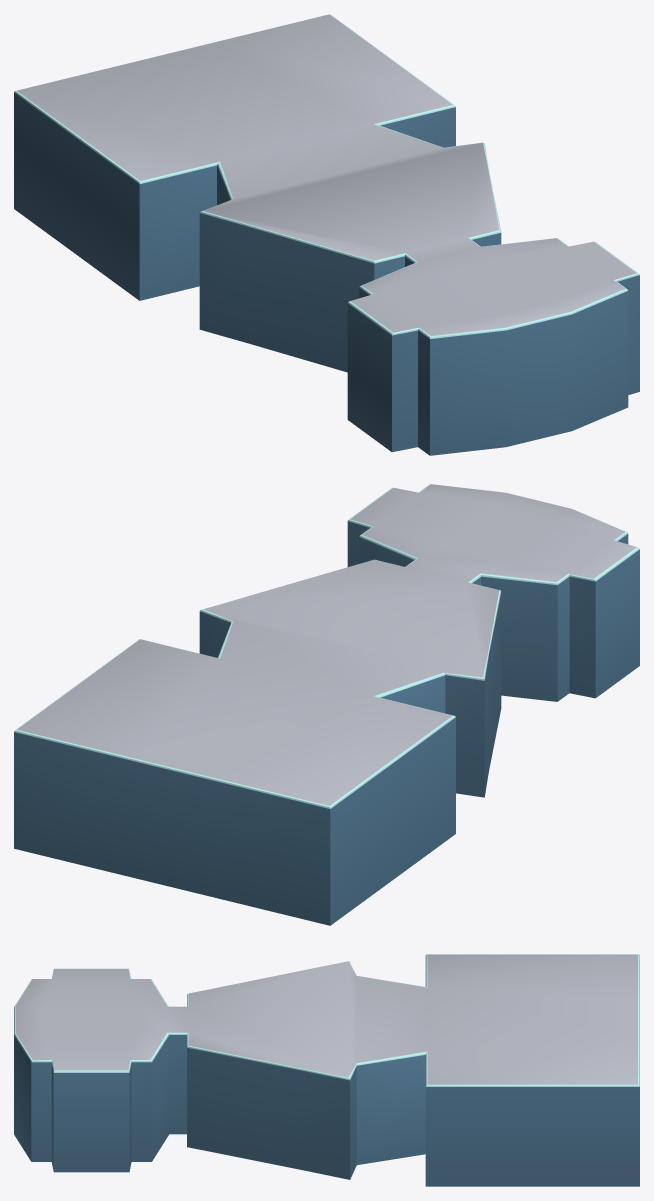
File: Lvl9.fbx
3 views of the same model, one above another, from view 1: azimuth 30°, elevation 25°; view 2: azimuth 150°, elevation 25°; view 3: azimuth 270°, elevation 25° (orthographic). The views are drawn at different scales.
Visible parts, largest first — view 1: lvl9; view 2: lvl9; view 3: lvl9.
Part boxes in pixels (left/top/right/bottom): lvl9: left=14, top=14, right=639, bottom=455; lvl9: left=14, top=484, right=639, bottom=925; lvl9: left=14, top=954, right=639, bottom=1186.
Size of the model in its own units: 3966 by 1421 by 7971.
